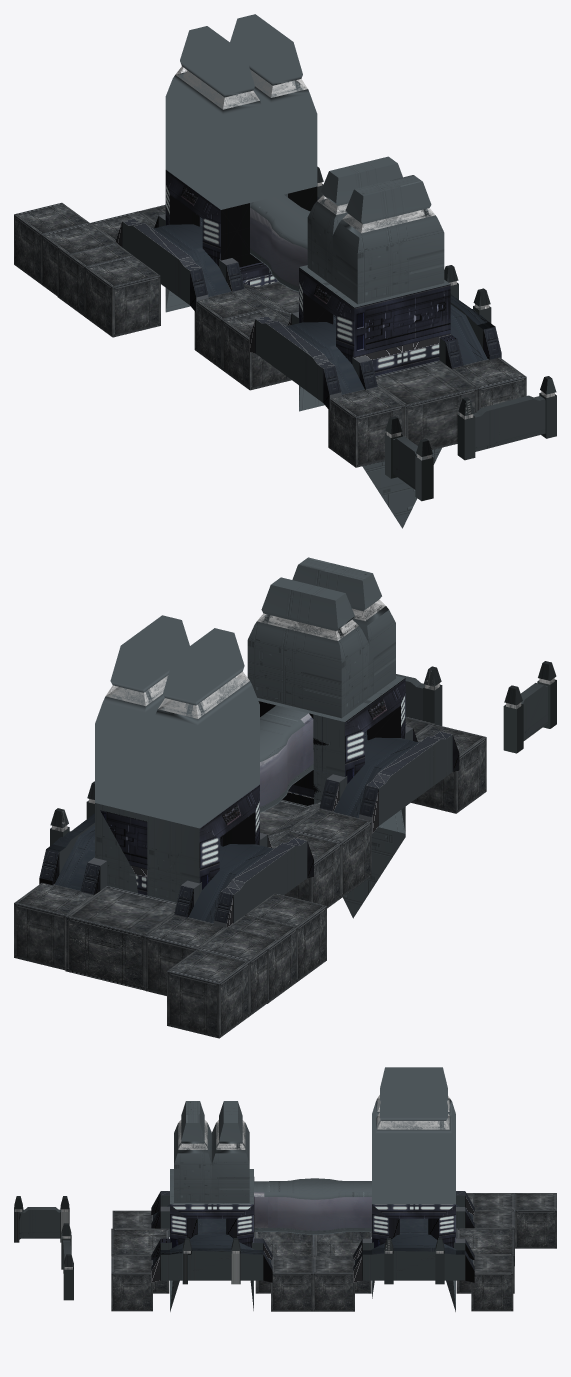
The model's file is bldg_ramp.gltf.
3 views of the same model, one above another, from view 1: azimuth 30°, elevation 25°; view 2: azimuth 150°, elevation 25°; view 3: azimuth 270°, elevation 25° (orthographic). The views are drawn at different scales.
Visible parts, largest first — view 1: polymsh68, polymsh42, polymsh41, cube138, cube133, cube137, bldg_bridge1, polymsh38, polymsh29, glow_posts_turn1, cube127, polymsh80 (+19 smaller); view 2: polymsh68, polymsh42, cube124, cube131, polymsh_detached84, polymsh38, bldg_bridge1, cube122, polymsh29, cube137, cube127, cube118 (+21 smaller); view 3: polymsh68, polymsh42, bldg_bridge1, polymsh36, polymsh31, polymsh_detached65, polymsh_detached64, cube122, cube121, cube126, cube135, cube131 (+17 smaller).
Boxes of the visible parts, x1=… form: polymsh68: x1=165, y1=14, x2=317, y2=312; polymsh42: x1=307, y1=156, x2=444, y2=304; polymsh41: x1=299, y1=265, x2=450, y2=411; cube138: x1=375, y1=360, x2=478, y2=449; cube133: x1=85, y1=256, x2=160, y2=337; cube137: x1=328, y1=387, x2=403, y2=467; bldg_bridge1: x1=250, y1=194, x2=310, y2=291; polymsh38: x1=249, y1=316, x2=341, y2=410; polymsh29: x1=116, y1=218, x2=208, y2=312; glow_posts_turn1: x1=385, y1=376, x2=556, y2=501; cube127: x1=222, y1=308, x2=291, y2=390; polymsh80: x1=469, y1=395, x2=545, y2=451; polymsh68: x1=95, y1=615, x2=259, y2=876; polymsh42: x1=247, y1=557, x2=395, y2=718; cube124: x1=65, y1=886, x2=176, y2=990; cube131: x1=167, y1=949, x2=249, y2=1038; polymsh_detached84: x1=95, y1=803, x2=199, y2=902; polymsh38: x1=359, y1=731, x2=459, y2=833; bldg_bridge1: x1=260, y1=705, x2=313, y2=812; cube122: x1=14, y1=883, x2=95, y2=970; polymsh29: x1=213, y1=837, x2=313, y2=927; cube137: x1=411, y1=724, x2=486, y2=813; cube127: x1=289, y1=808, x2=371, y2=897; cube118: x1=145, y1=915, x2=226, y2=995; polymsh68: x1=372, y1=1067, x2=455, y2=1311; polymsh42: x1=174, y1=1101, x2=249, y2=1202; bldg_bridge1: x1=254, y1=1178, x2=371, y2=1234; polymsh36: x1=151, y1=1247, x2=272, y2=1282; polymsh31: x1=353, y1=1247, x2=474, y2=1282; polymsh_detached65: x1=170, y1=1196, x2=254, y2=1247; polymsh_detached64: x1=372, y1=1204, x2=455, y2=1247; cube122: x1=471, y1=1255, x2=513, y2=1311; cube121: x1=313, y1=1255, x2=354, y2=1311; cube126: x1=271, y1=1255, x2=312, y2=1311; cube135: x1=111, y1=1255, x2=152, y2=1311; cube131: x1=515, y1=1193, x2=556, y2=1248.
Size of the model in its own units: 38.31 by 59.58 by 103.
Materials: 25 (24 with a texture image).
